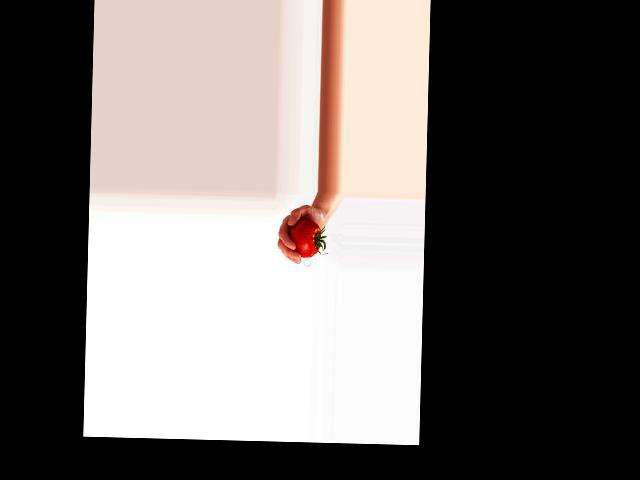tomato: (287, 219, 321, 258)
